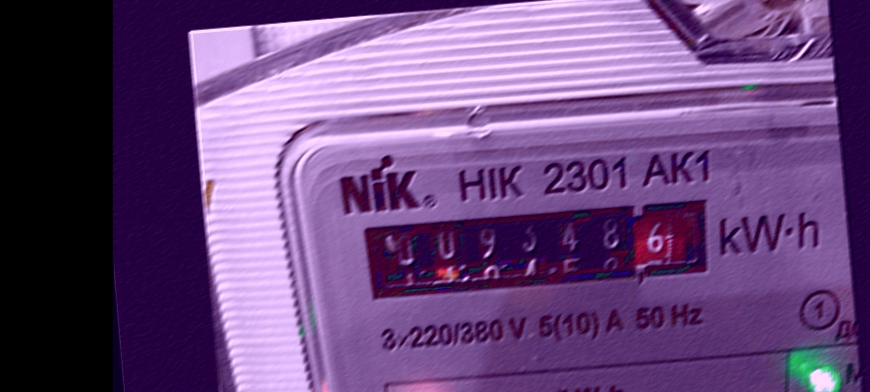0: (436, 225, 460, 263), (395, 231, 418, 267)
3: (518, 219, 542, 253)
4: (558, 216, 582, 254)
6: (645, 218, 670, 254)
8: (601, 214, 623, 250)
9: (479, 223, 500, 258)
screen: (341, 182, 734, 316)
